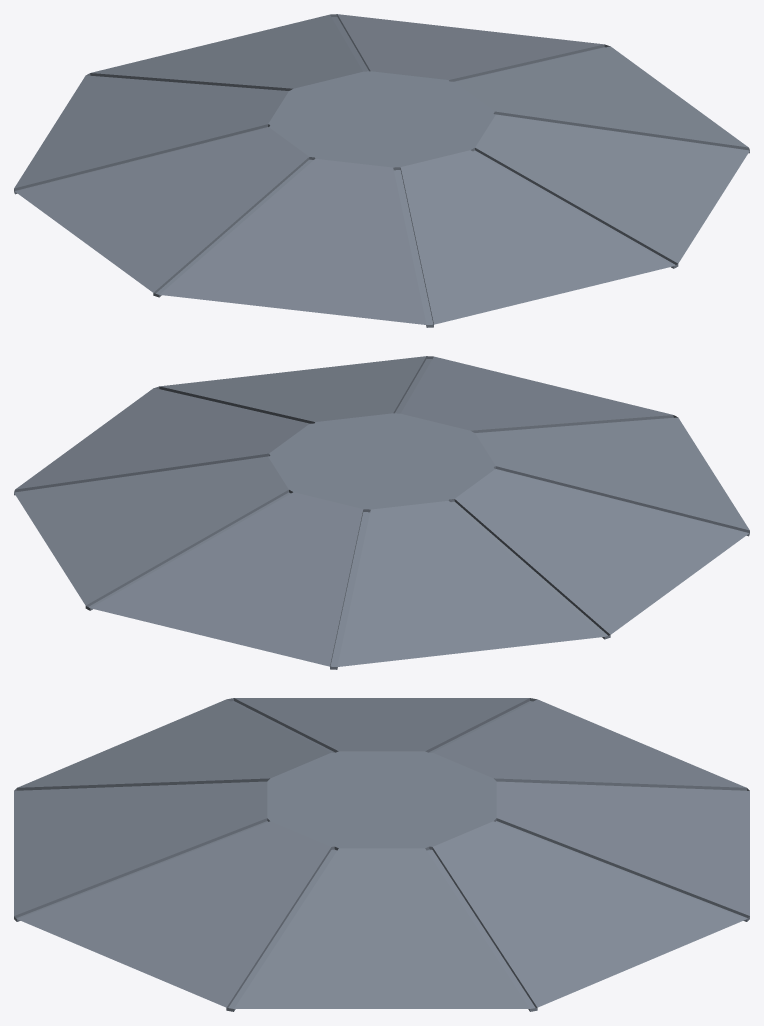
Rendered from Arena_roof.fbx.
The picture shows the model from 3 angles, top to bottom: view 1: azimuth 30°, elevation 25°; view 2: azimuth 150°, elevation 25°; view 3: azimuth 270°, elevation 25°; orthographic projection. The views are drawn at different scales.
Visible parts, largest first — view 1: Arena roof; view 2: Arena roof; view 3: Arena roof.
Part boxes in pixels (x1,y1,x2,y2): Arena roof: (14, 14, 749, 327); Arena roof: (14, 356, 749, 669); Arena roof: (14, 698, 749, 1011).
Bounding box in the file's own units: 5600 × 476 × 5600.
